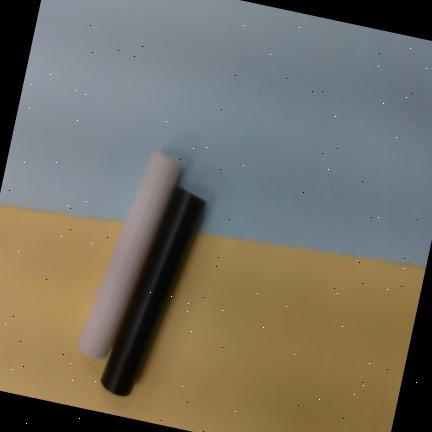Cilindro: (101, 186, 208, 397), (79, 149, 183, 358)
